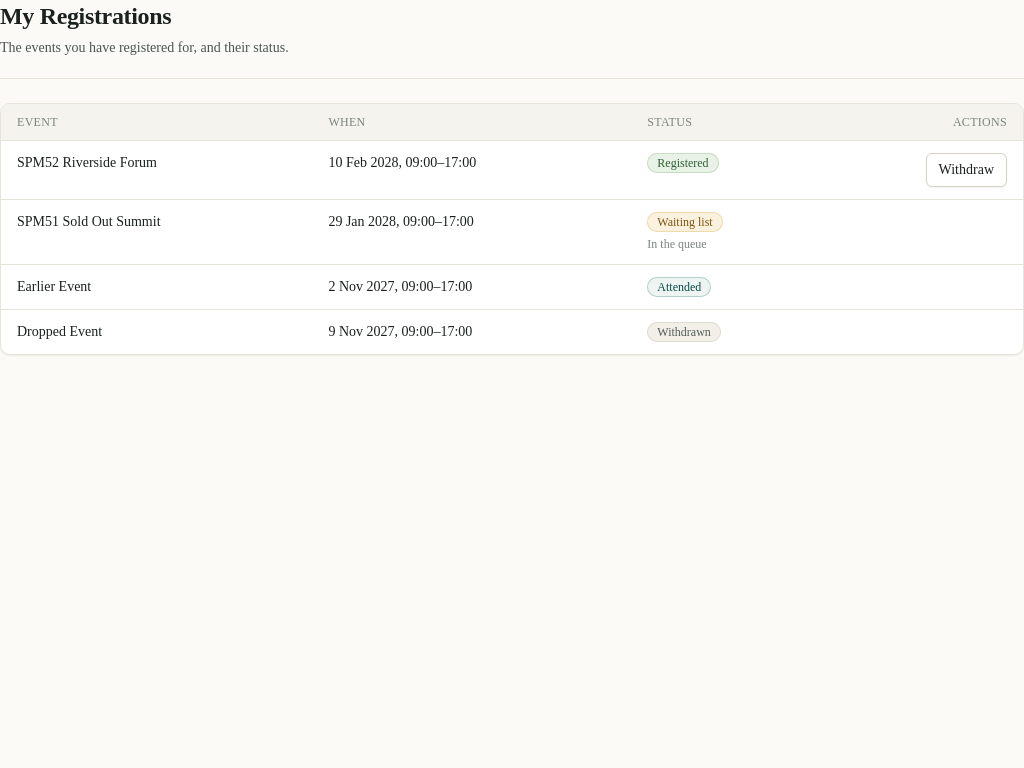
it: SPM-52 an attendee withdraws from My Registrations › [SPM-52][AC1] asks first, naming the event and what happens to the place, without opening the event
Expected: the table is shown, left=1, top=104, right=1023, bottom=354
Click the button "Withdraw" at (966, 170), box left=926, top=153, right=1007, bottom=187
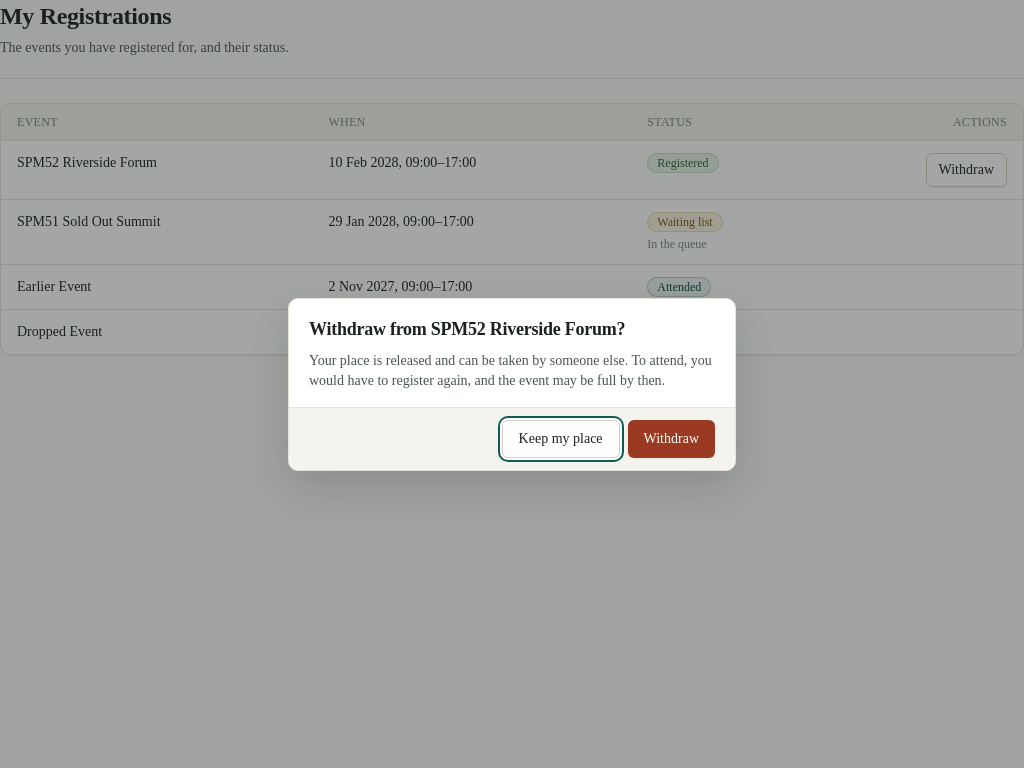
Expected: the heading "Withdraw from SPM52 Riverside Forum?" is shown, left=309, top=318, right=625, bottom=338
Expected: the dialog shows "Your place is released and can be taken by someone else.", left=309, top=352, right=712, bottom=388
